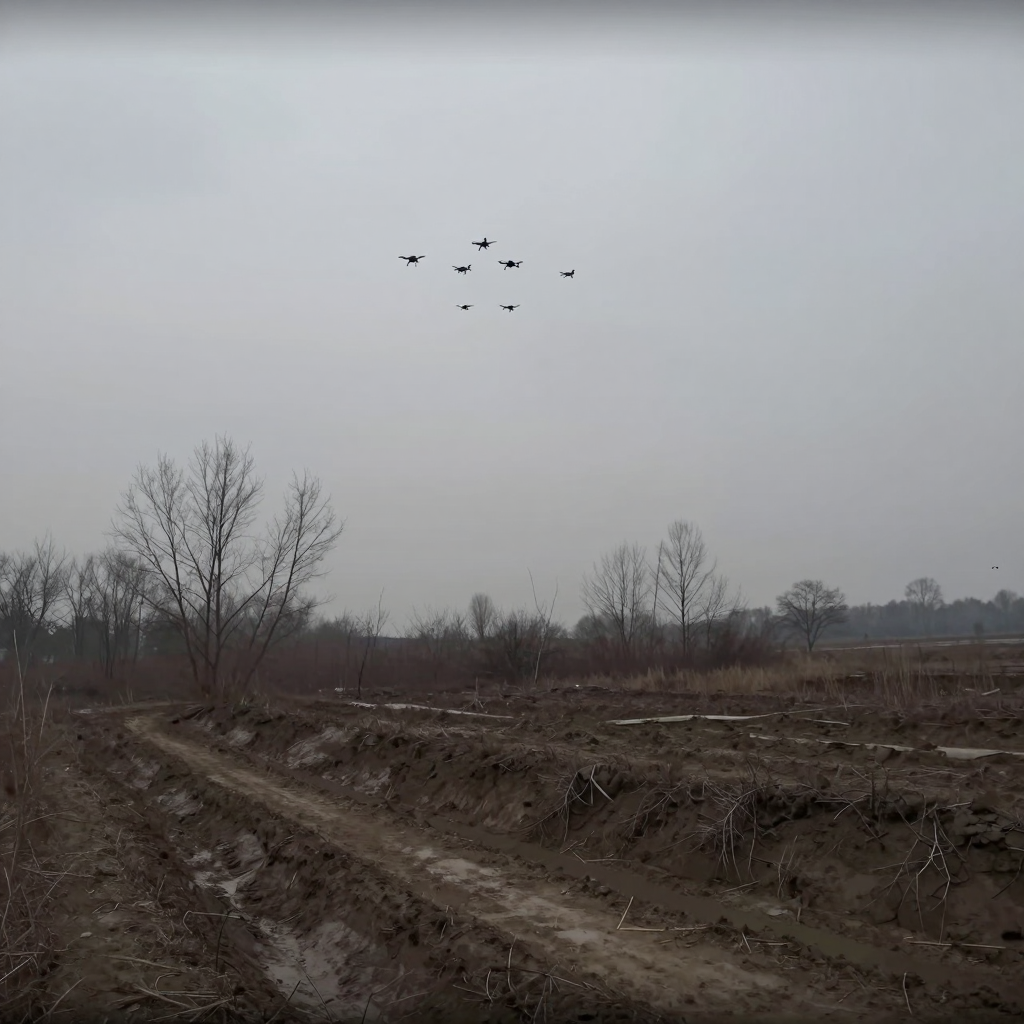drone: (398, 255, 426, 267), (472, 238, 497, 251), (498, 260, 523, 270), (452, 264, 472, 275), (499, 304, 520, 313), (560, 270, 575, 279), (456, 304, 475, 311)
